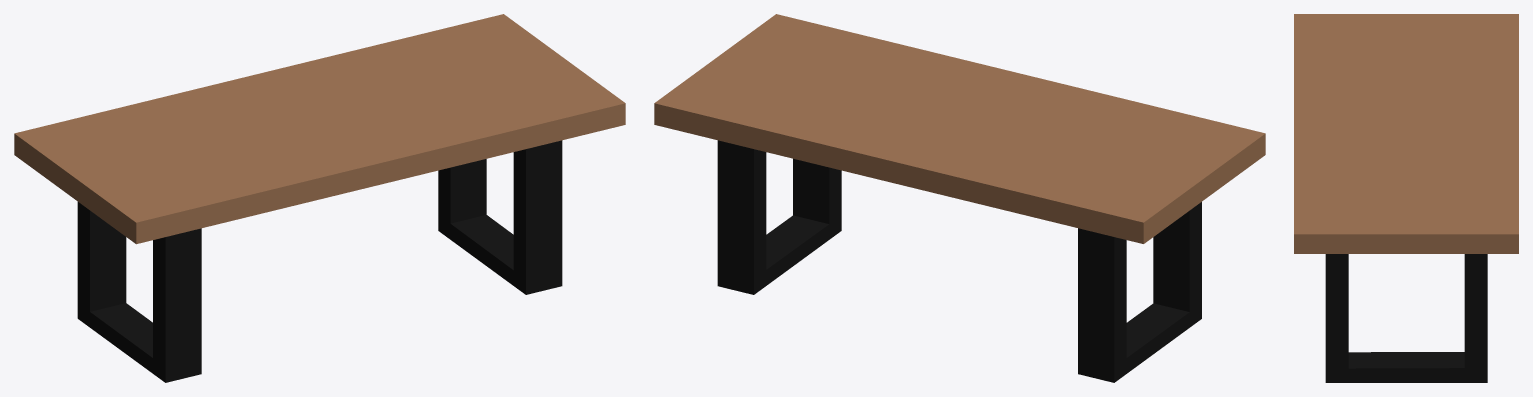
Rendered from Table1.fbx.
3 views of the same model, side by side, from view 1: azimuth 30°, elevation 25°; view 2: azimuth 150°, elevation 25°; view 3: azimuth 270°, elevation 25° (orthographic). The views are drawn at different scales.
Parts seen in each view (by area): view 1: Table1; view 2: Table1; view 3: Table1.
Part boxes in pixels (<box>): Table1: <box>14,14,625,382</box>; Table1: <box>654,14,1265,382</box>; Table1: <box>1294,14,1518,382</box>.
Bounding box in the file's own units: 3782 × 1359 × 1632.
